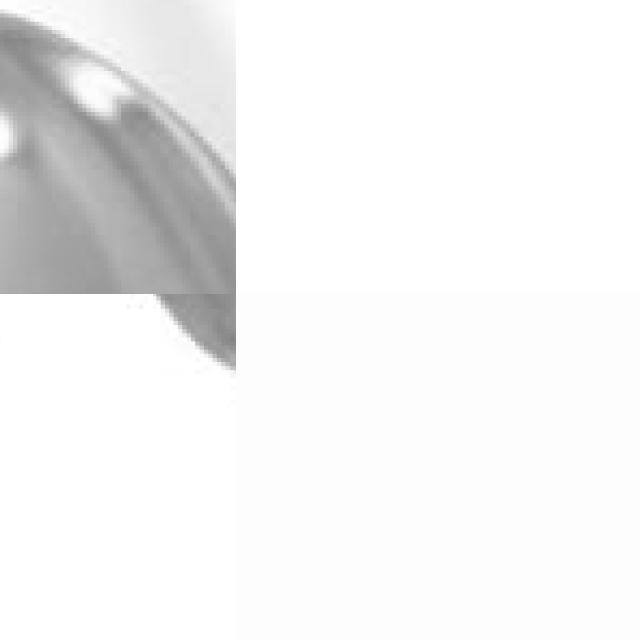spoons: (0, 0, 236, 294), (0, 294, 236, 383)
